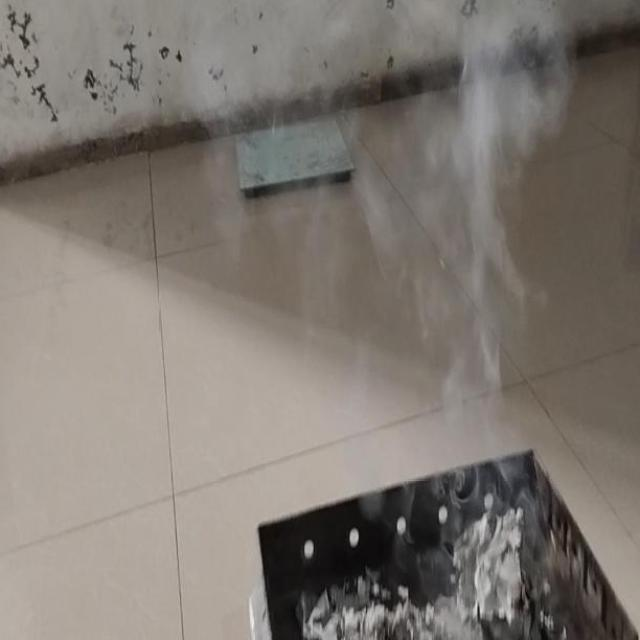fire: (432, 0, 534, 439)
